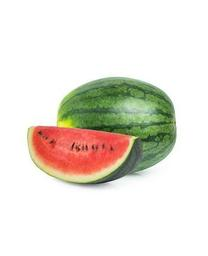watermelon: (56, 74, 177, 175), (24, 124, 140, 187)
